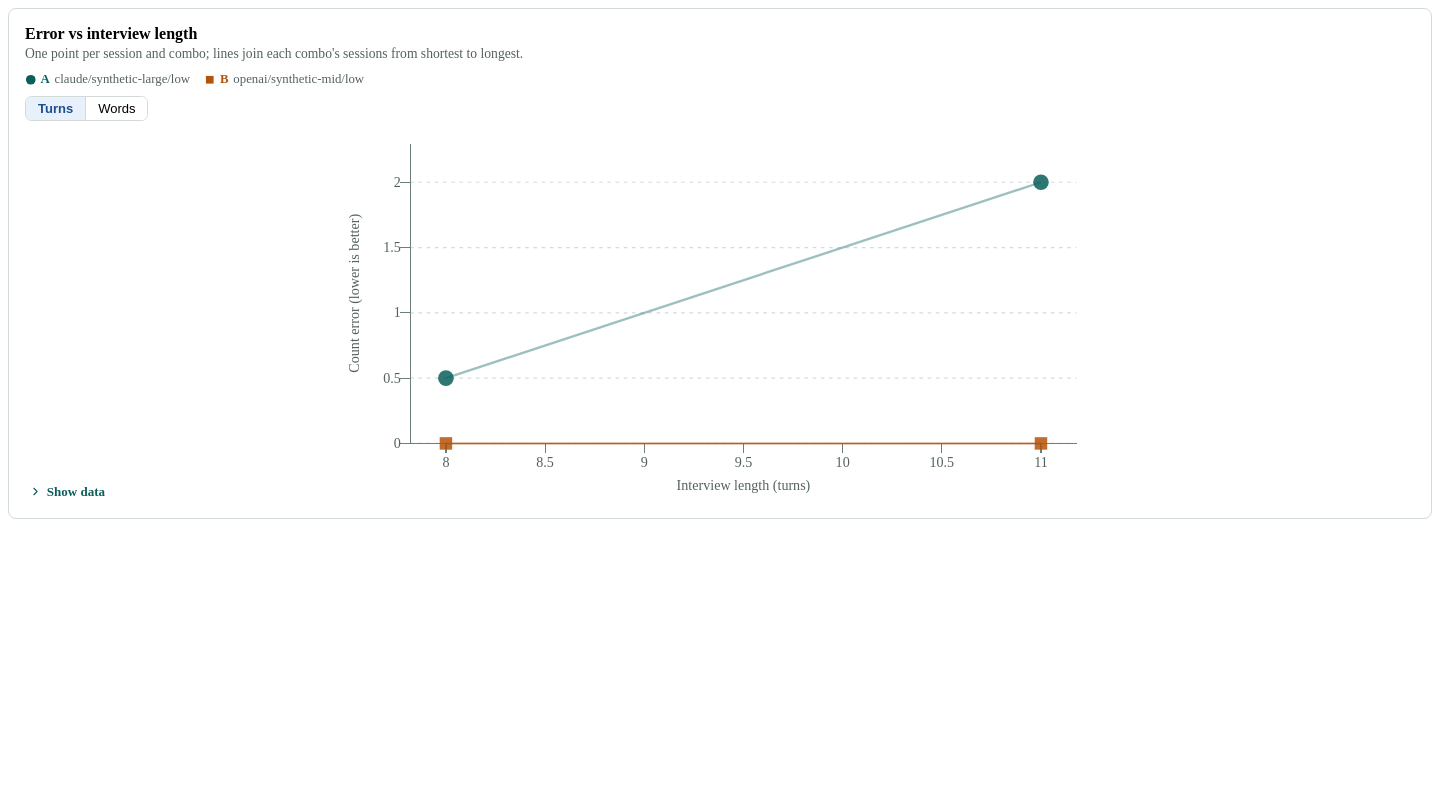
Test case: shows the dataset session name in the data table and point tooltip
Click the button "Show data".
click(67, 492)  # box [25,481,109,502]
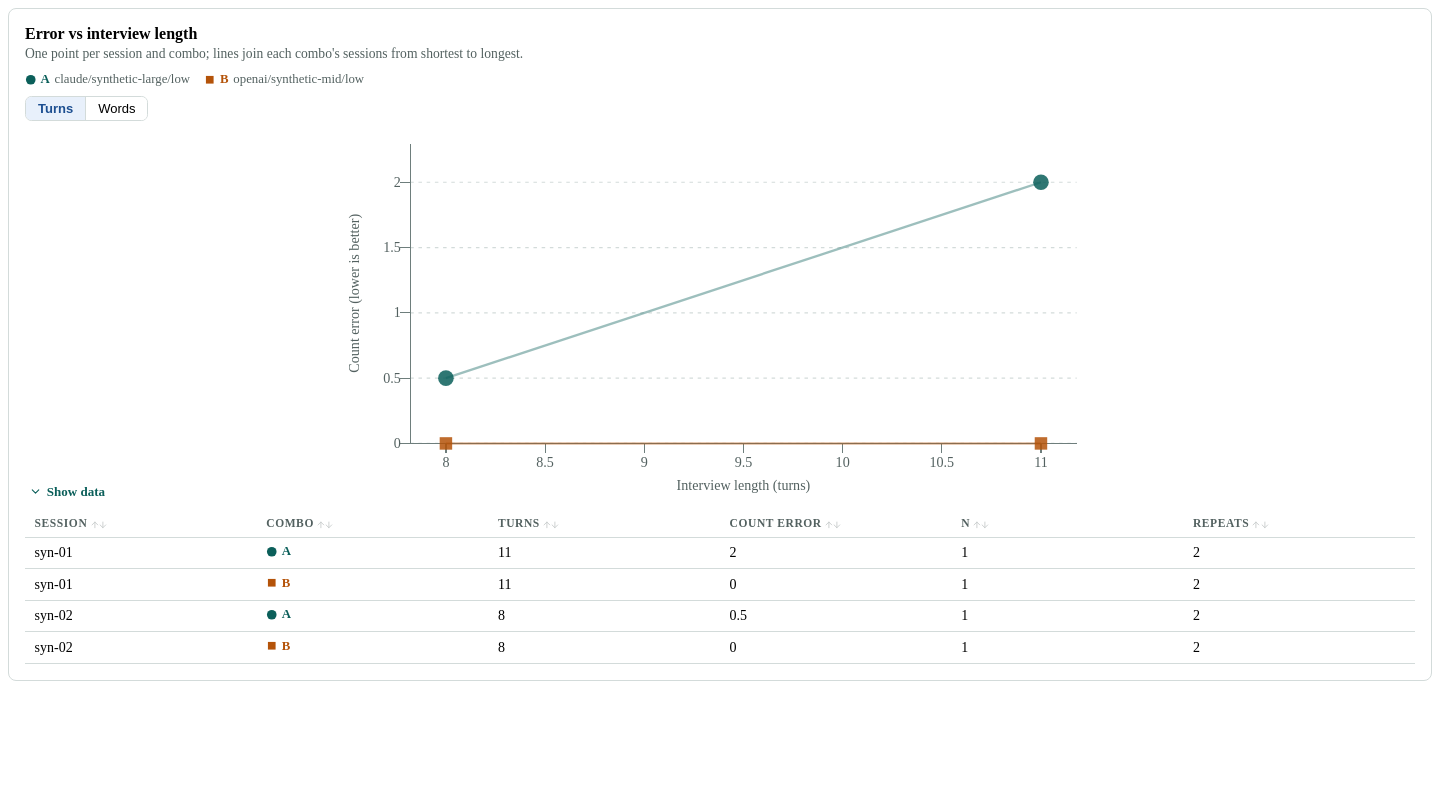
Result: the 1st text "syn-01" is shown at [35,545,73,560]
